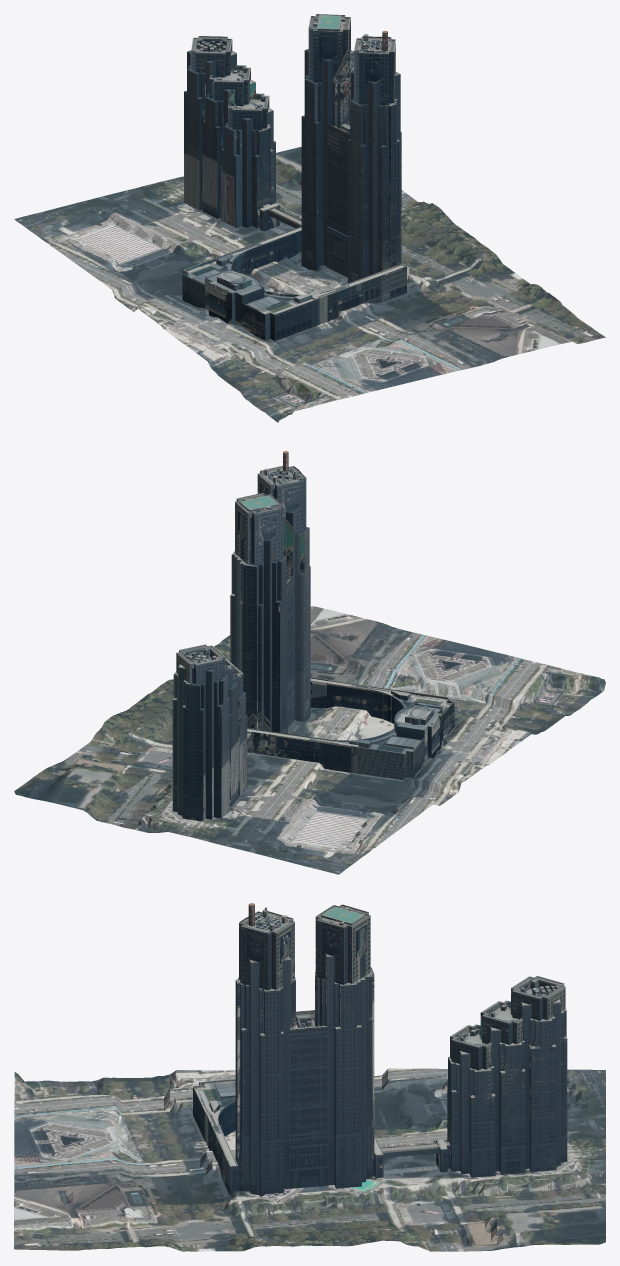
File: citymodel.glb
3 views of the same model, one above another, from view 1: azimuth 30°, elevation 25°; view 2: azimuth 150°, elevation 25°; view 3: azimuth 270°, elevation 25° (orthographic). The views are drawn at different scales.
Parts seen in each view (by area): view 1: dem_cb4817e6-e931-4e28-9ae6-71675045d363, bldg_94caaf2f-dec2-41a7-8b0f-06ecd0fac6c7, bldg_d0967cf5-1f32-48d1-9dda-11320828a076, bldg_7e673dbb-95f1-4a0c-bdab-b0d7bb352d3b, bldg_fa3ef9ba-cd3c-4ddf-b8b9-87becc2b5792, bldg_c0f762a4-cfc0-49fb-85d0-660765c6b6ca, bldg_178c97c9-6d9b-4418-84ec-b6eb23f41490, bldg_773000d3-5879-4899-b555-44b9037656c5; view 2: dem_cb4817e6-e931-4e28-9ae6-71675045d363, bldg_94caaf2f-dec2-41a7-8b0f-06ecd0fac6c7, bldg_d0967cf5-1f32-48d1-9dda-11320828a076, bldg_178c97c9-6d9b-4418-84ec-b6eb23f41490, bldg_773000d3-5879-4899-b555-44b9037656c5, bldg_fa3ef9ba-cd3c-4ddf-b8b9-87becc2b5792, bldg_c0f762a4-cfc0-49fb-85d0-660765c6b6ca, bldg_7e673dbb-95f1-4a0c-bdab-b0d7bb352d3b; view 3: dem_cb4817e6-e931-4e28-9ae6-71675045d363, bldg_94caaf2f-dec2-41a7-8b0f-06ecd0fac6c7, bldg_d0967cf5-1f32-48d1-9dda-11320828a076, bldg_7e673dbb-95f1-4a0c-bdab-b0d7bb352d3b, bldg_fa3ef9ba-cd3c-4ddf-b8b9-87becc2b5792, bldg_5da56097-5f78-481b-bcb6-a50a2d6aaad1.
Part boxes in pixels (left/top/right/bottom): dem_cb4817e6-e931-4e28-9ae6-71675045d363: left=14, top=147, right=605, bottom=422; bldg_94caaf2f-dec2-41a7-8b0f-06ecd0fac6c7: left=301, top=14, right=401, bottom=283; bldg_d0967cf5-1f32-48d1-9dda-11320828a076: left=184, top=36, right=279, bottom=231; bldg_7e673dbb-95f1-4a0c-bdab-b0d7bb352d3b: left=242, top=290, right=317, bottom=341; bldg_fa3ef9ba-cd3c-4ddf-b8b9-87becc2b5792: left=308, top=264, right=406, bottom=325; bldg_c0f762a4-cfc0-49fb-85d0-660765c6b6ca: left=205, top=270, right=264, bottom=326; bldg_178c97c9-6d9b-4418-84ec-b6eb23f41490: left=221, top=226, right=301, bottom=274; bldg_773000d3-5879-4899-b555-44b9037656c5: left=182, top=256, right=233, bottom=308; dem_cb4817e6-e931-4e28-9ae6-71675045d363: left=14, top=606, right=605, bottom=874; bldg_94caaf2f-dec2-41a7-8b0f-06ecd0fac6c7: left=230, top=451, right=310, bottom=733; bldg_d0967cf5-1f32-48d1-9dda-11320828a076: left=172, top=644, right=247, bottom=821; bldg_178c97c9-6d9b-4418-84ec-b6eb23f41490: left=247, top=728, right=362, bottom=773; bldg_773000d3-5879-4899-b555-44b9037656c5: left=356, top=728, right=424, bottom=780; bldg_fa3ef9ba-cd3c-4ddf-b8b9-87becc2b5792: left=310, top=677, right=396, bottom=722; bldg_c0f762a4-cfc0-49fb-85d0-660765c6b6ca: left=394, top=703, right=443, bottom=761; bldg_7e673dbb-95f1-4a0c-bdab-b0d7bb352d3b: left=391, top=689, right=454, bottom=738; dem_cb4817e6-e931-4e28-9ae6-71675045d363: left=14, top=1068, right=605, bottom=1251; bldg_94caaf2f-dec2-41a7-8b0f-06ecd0fac6c7: left=235, top=903, right=374, bottom=1196; bldg_d0967cf5-1f32-48d1-9dda-11320828a076: left=436, top=976, right=567, bottom=1177; bldg_7e673dbb-95f1-4a0c-bdab-b0d7bb352d3b: left=193, top=1079, right=235, bottom=1141; bldg_fa3ef9ba-cd3c-4ddf-b8b9-87becc2b5792: left=205, top=1109, right=238, bottom=1195; bldg_5da56097-5f78-481b-bcb6-a50a2d6aaad1: left=381, top=1143, right=439, bottom=1158.
Bounding box in the file's own units: 34.5 × 26.63 × 48.89.
10 materials, 9 textured.
